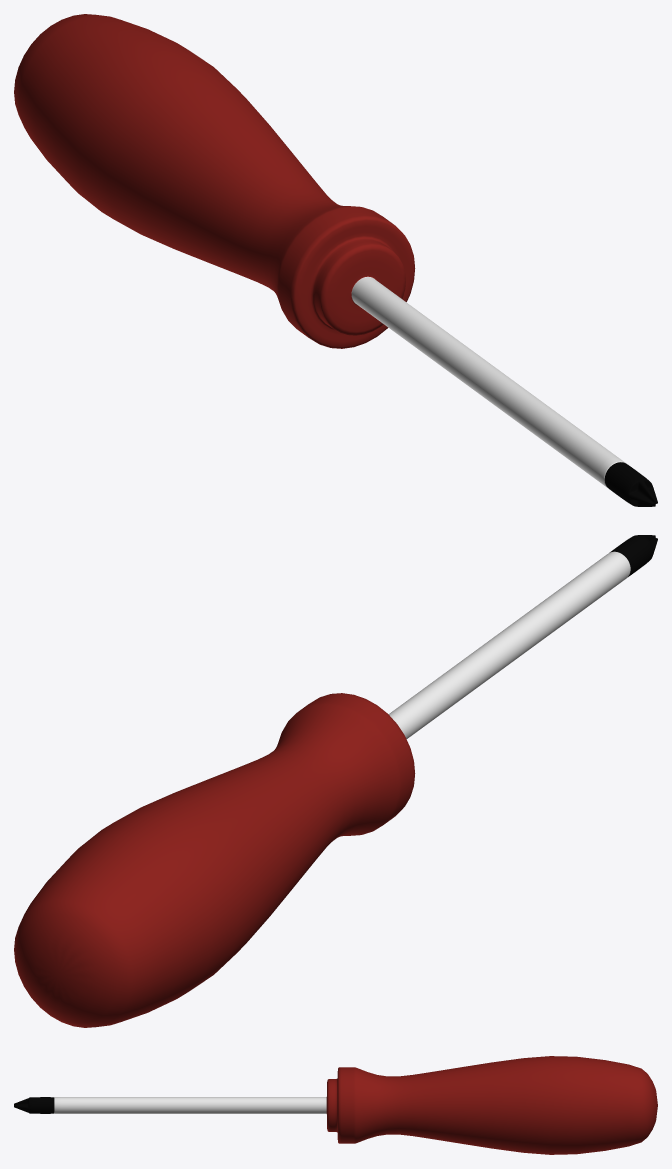
Rendered from screwdriver.fbx.
3 renders of one model, top to bottom at view 1: azimuth 30°, elevation 25°; view 2: azimuth 150°, elevation 25°; view 3: azimuth 270°, elevation 25°, orthographic. The views are drawn at different scales.
Parts seen in each view (by area): view 1: Cylinder; view 2: Cylinder; view 3: Cylinder.
Part boxes in pixels (<box>): Cylinder: <box>14,14,657,506</box>; Cylinder: <box>14,535,657,1027</box>; Cylinder: <box>14,1056,657,1154</box>.
Bounding box in the file's own units: 75.7 × 75.7 × 493.
